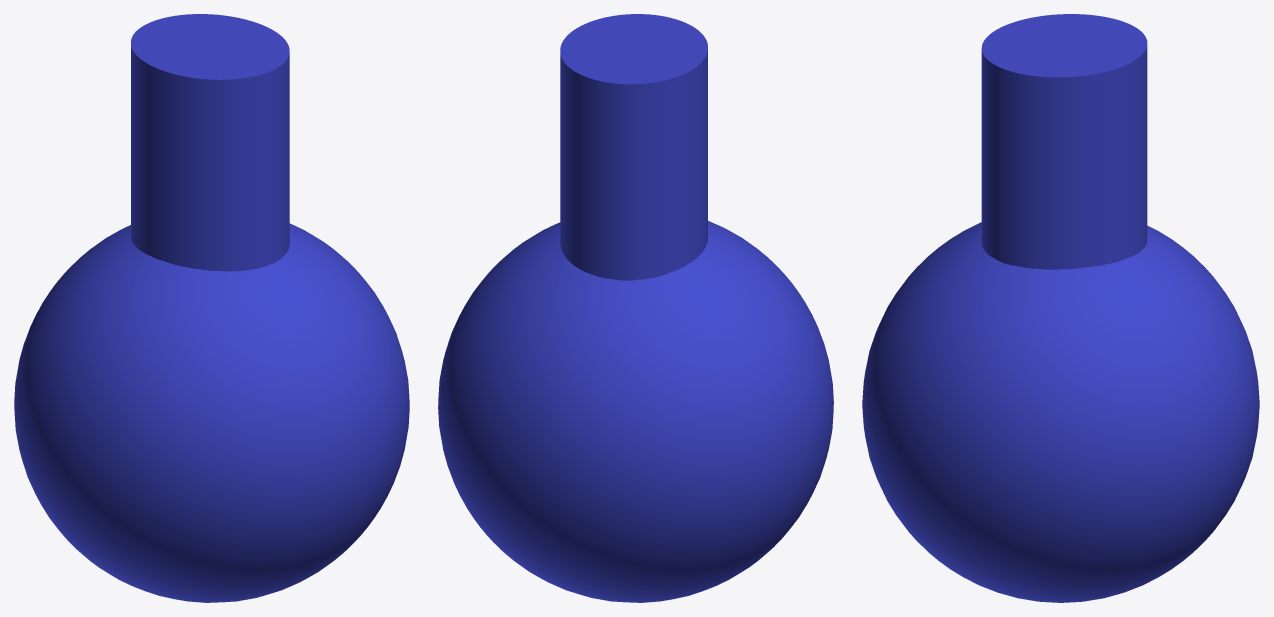
File: Potion.fbx
3 renders of one model, left to right at view 1: azimuth 30°, elevation 25°; view 2: azimuth 150°, elevation 25°; view 3: azimuth 270°, elevation 25°, orthographic.
Visible parts, largest first — view 1: root (×2); view 2: root (×2); view 3: root (×2).
Part boxes in pixels (bbox=[...]): root (×2): bbox=[14, 14, 409, 602]; root (×2): bbox=[438, 14, 833, 602]; root (×2): bbox=[862, 14, 1259, 602].
Size of the model in its own units: 0.0735 by 0.1098 by 0.0735.
